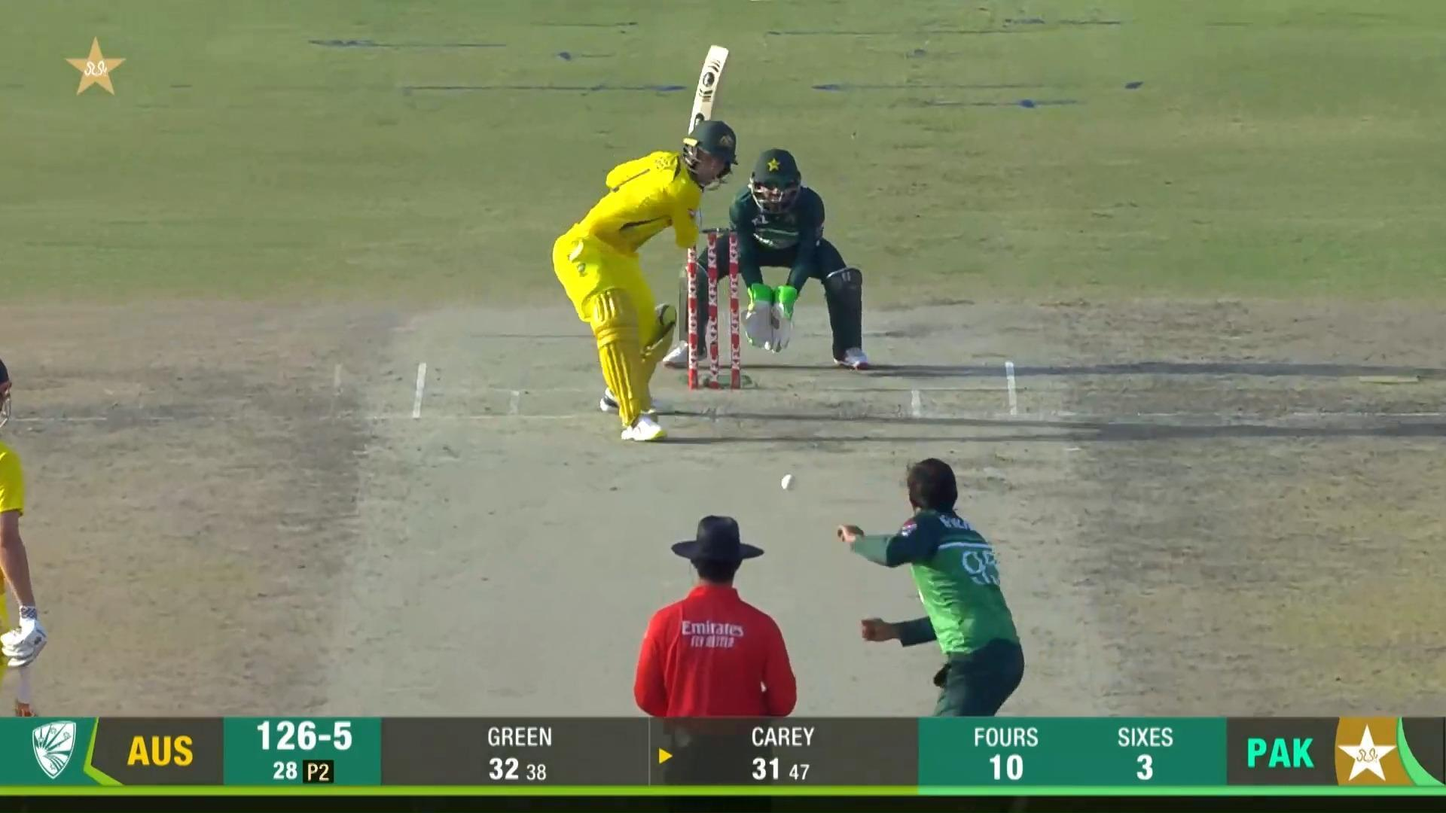BM 1: (551, 44, 730, 442)
BO: (838, 456, 1025, 717)
